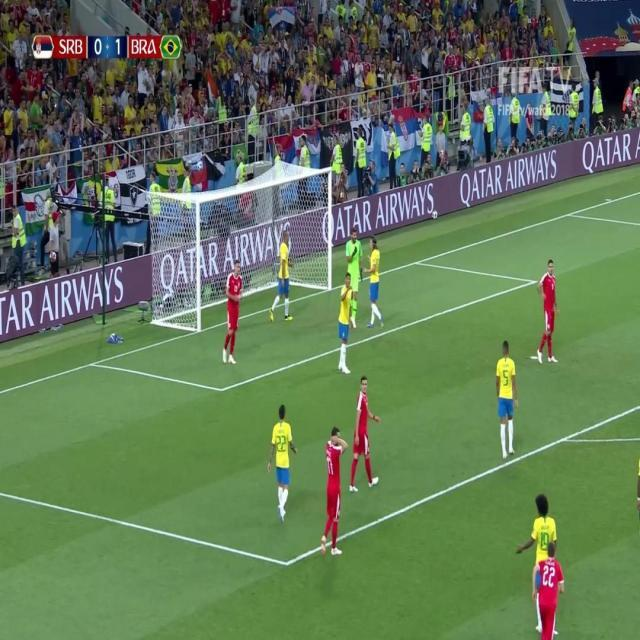goalkeeper: (344, 225, 364, 323)
player: (516, 488, 565, 636), (318, 419, 350, 554), (349, 373, 382, 495), (268, 400, 298, 524), (531, 535, 565, 640), (532, 255, 564, 366), (494, 336, 519, 458), (221, 254, 247, 366), (269, 222, 294, 325), (334, 265, 356, 375), (365, 230, 384, 330)
